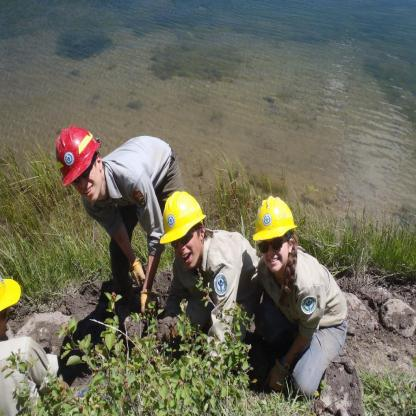Helmet: (158, 191, 209, 246), (54, 126, 99, 185), (252, 193, 298, 244), (0, 274, 22, 317)
